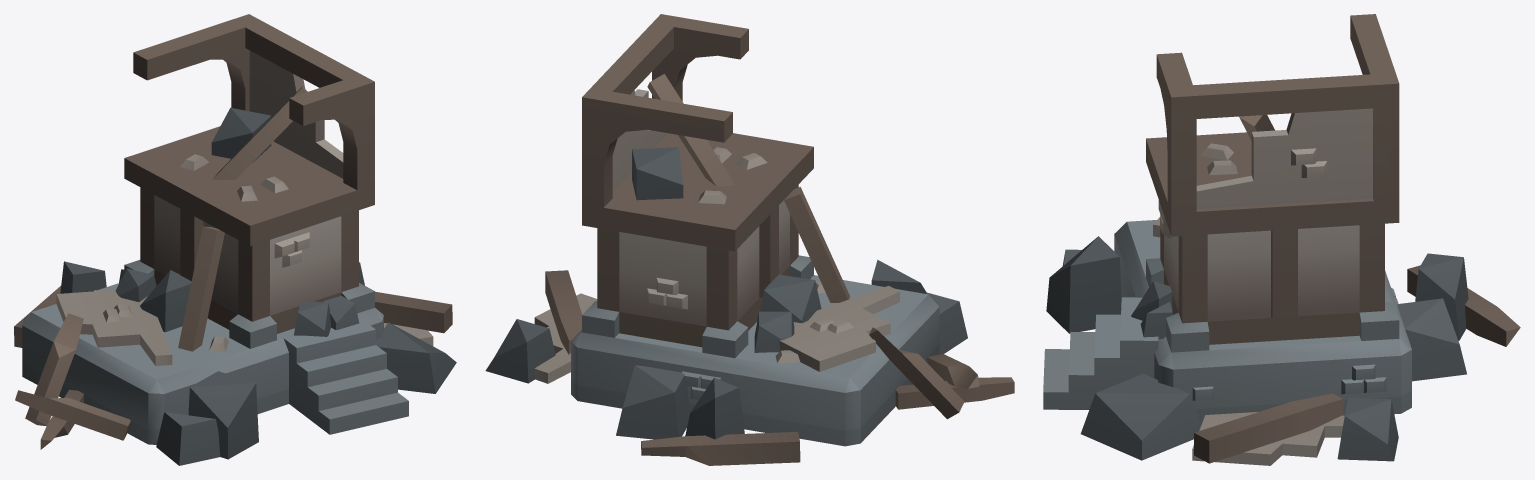
The model's file is building_destroyed.glb.
3 views of the same model, side by side, from view 1: azimuth 30°, elevation 25°; view 2: azimuth 150°, elevation 25°; view 3: azimuth 270°, elevation 25° (orthographic). The views are drawn at different scales.
Visible parts, largest first — view 1: building_destroyed; view 2: building_destroyed; view 3: building_destroyed.
Part boxes in pixels (<box>): building_destroyed: <box>14,14,456,465</box>; building_destroyed: <box>485,14,1014,465</box>; building_destroyed: <box>1043,14,1520,465</box>.
Size of the model in its own units: 1.54 by 0.9939 by 1.31.
Materials: 1 (1 with a texture image).
